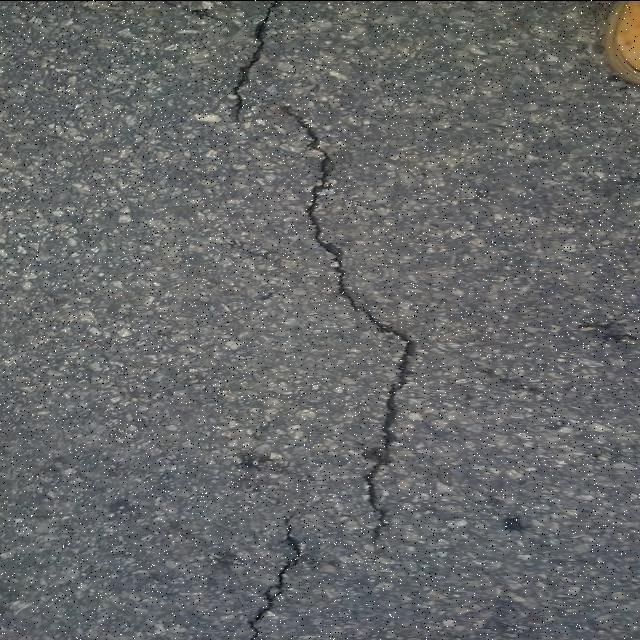Crack: (281, 101, 415, 541), (245, 513, 302, 640), (233, 0, 283, 120)
